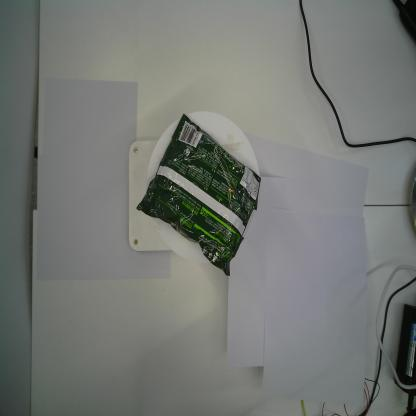Instant Noodles: (134, 110, 263, 279)
